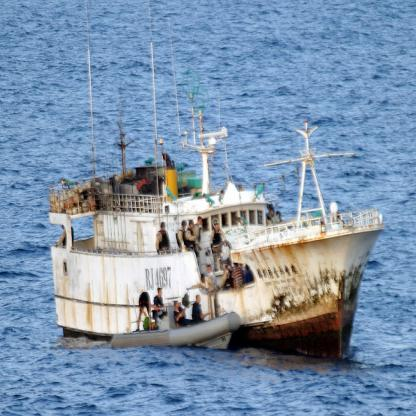fish-b: (42, 116, 389, 368)
